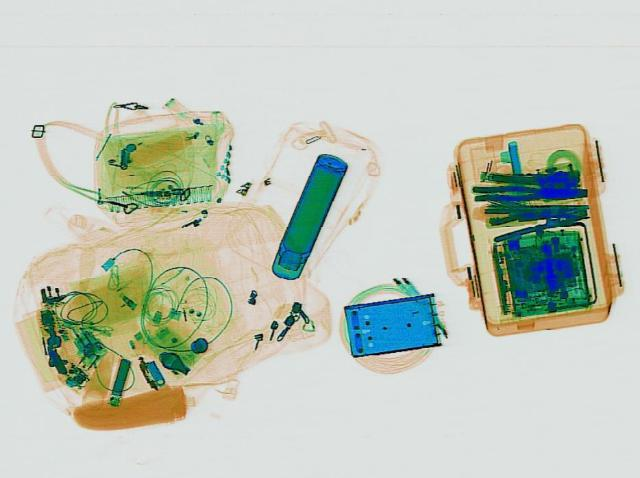Pliers: (472, 183, 586, 200)
